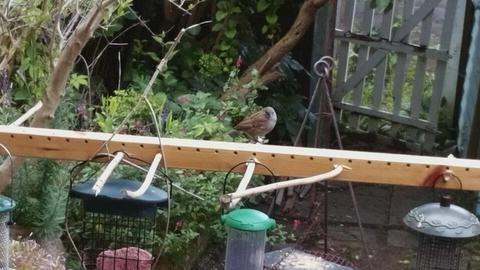dunnock: (224, 106, 277, 144)
